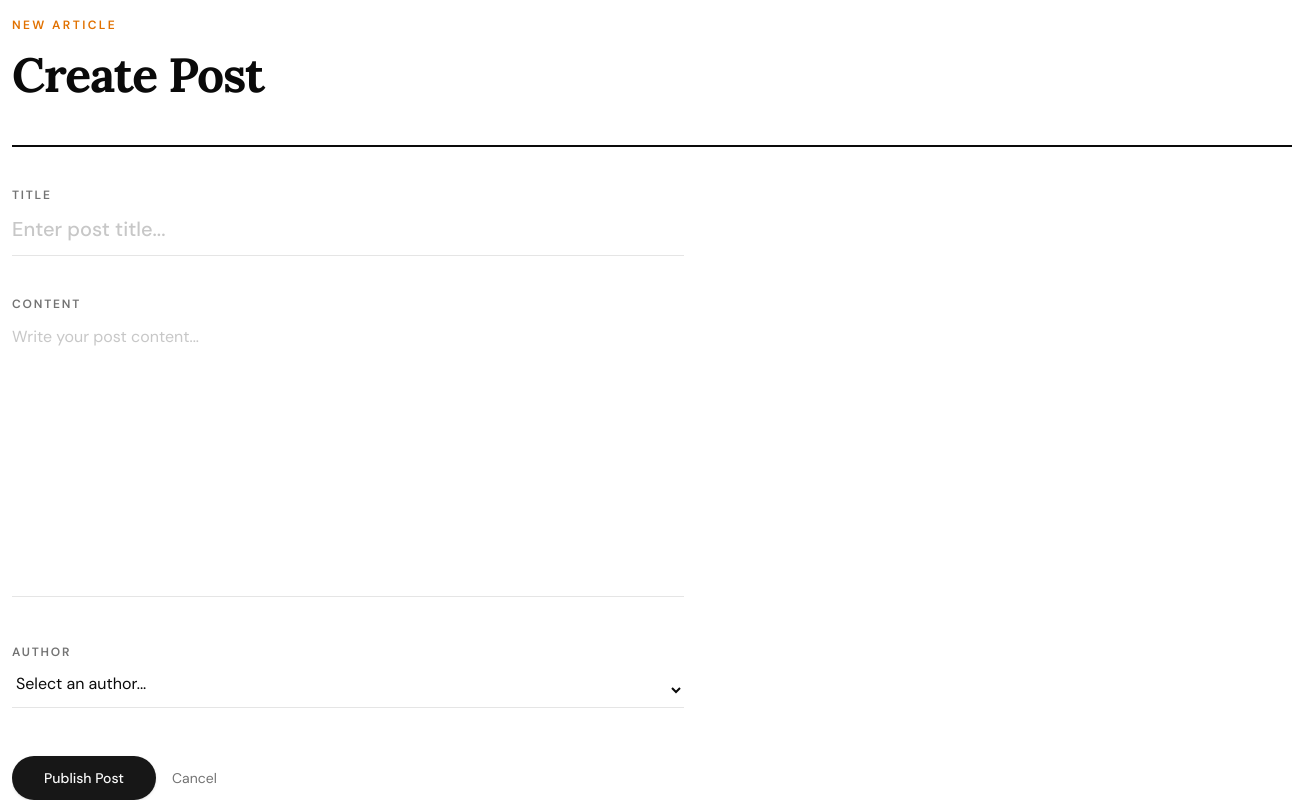
Scenario: PostForm › create mode › validation › shows an error when the title is empty on submit
(page scrolled)
Click the button "Publish Post": [84, 778] box [12,756,156,799]
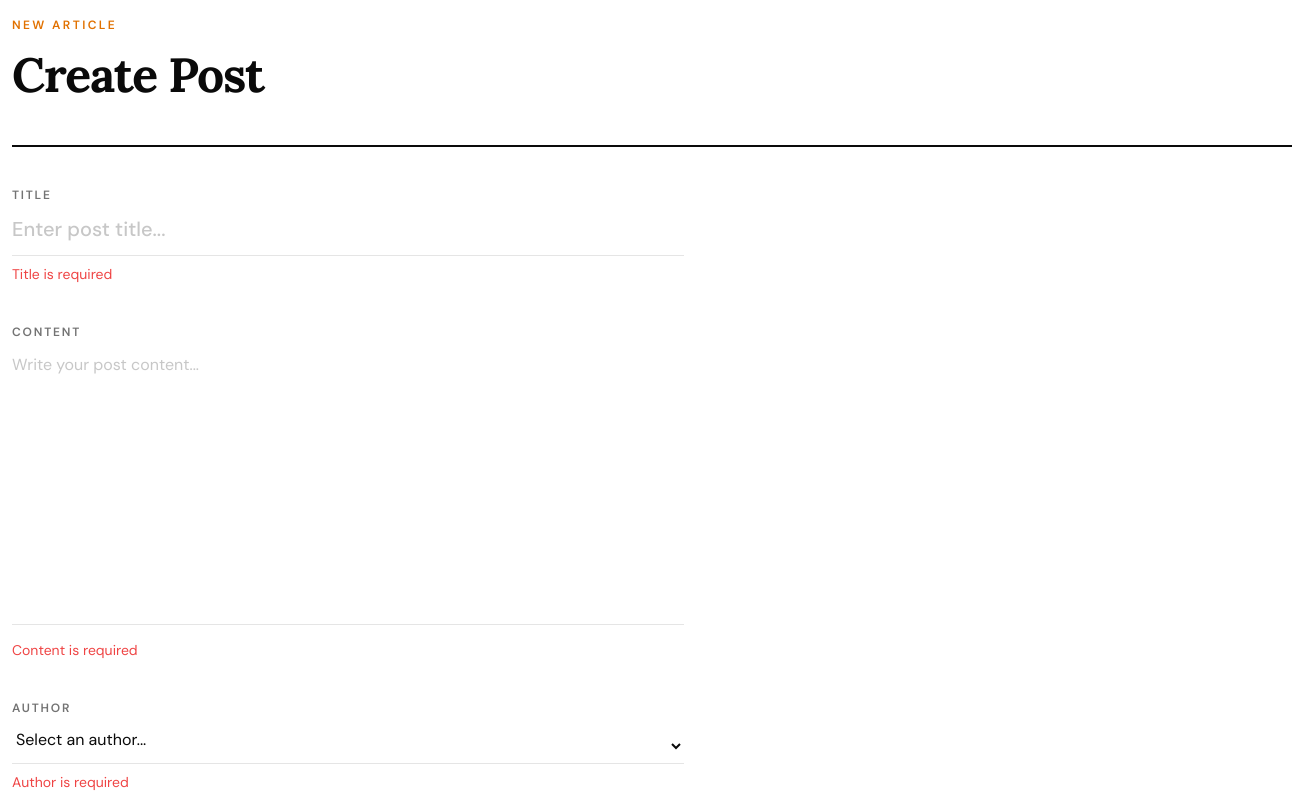
Now the text "Title is required" is shown, box [12,265,112,283]
